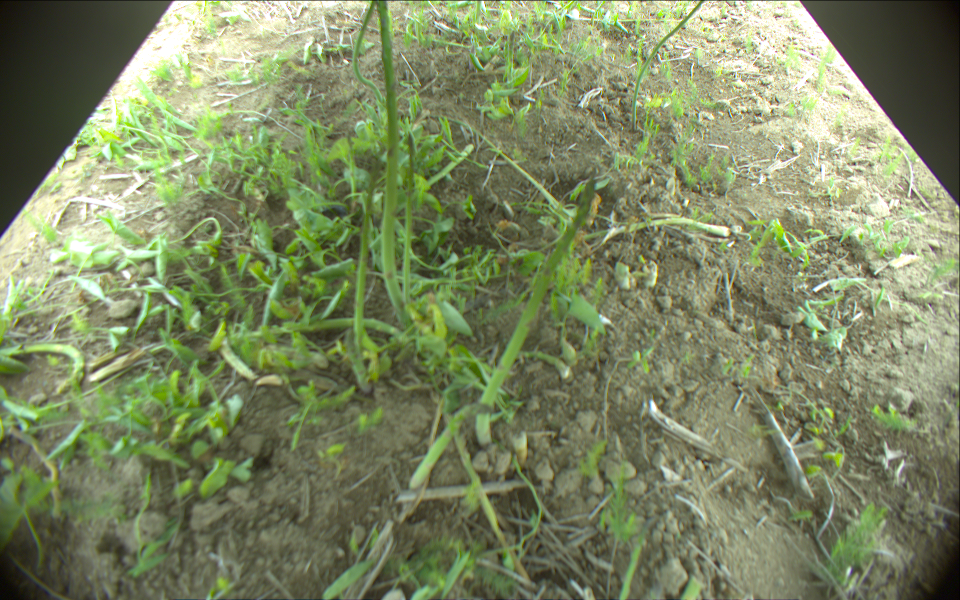aspa: (484, 177, 596, 407), (375, 1, 406, 321), (631, 1, 705, 129), (444, 411, 504, 555), (350, 148, 384, 354), (234, 315, 410, 345), (404, 409, 466, 493), (577, 213, 728, 244), (351, 1, 384, 104), (408, 1, 476, 50), (2, 344, 85, 384), (415, 143, 472, 193), (402, 132, 417, 309), (349, 335, 370, 398), (507, 30, 515, 87)
